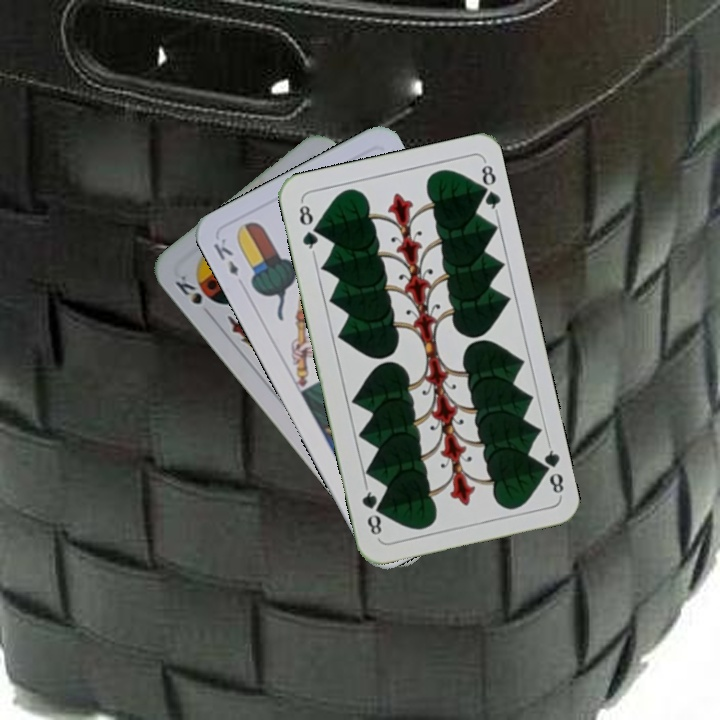EK: (209, 234, 241, 278)
G8: (535, 440, 567, 499), (295, 198, 321, 256)
SK: (171, 271, 206, 307)
